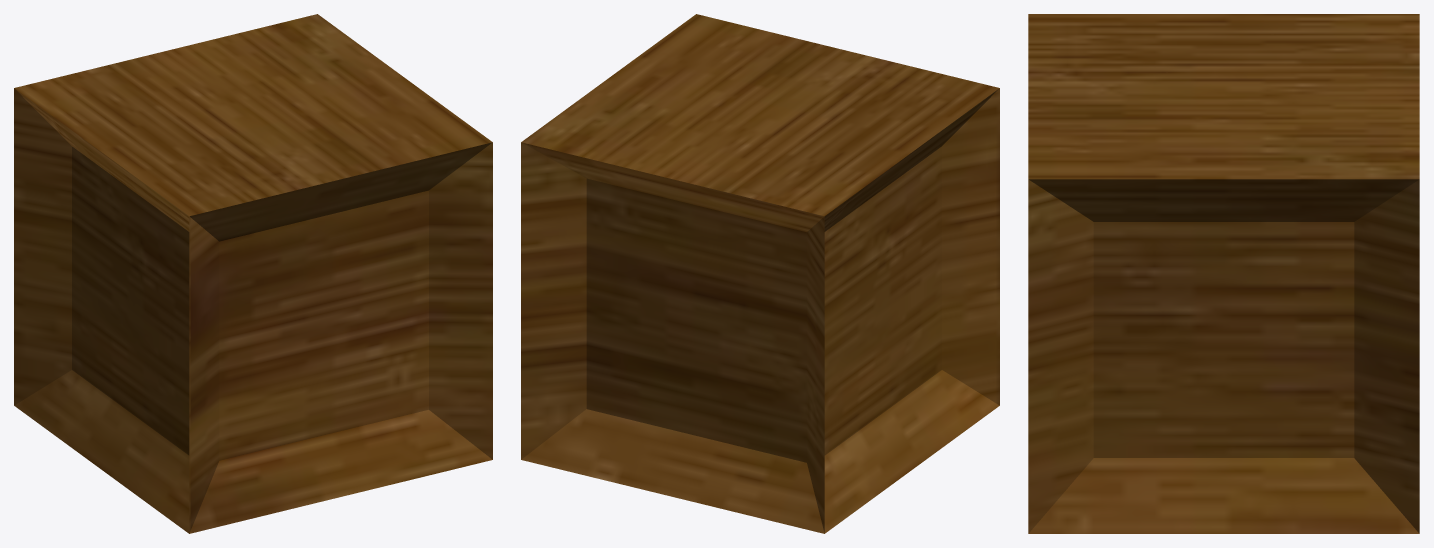
The model's file is new crate.fbx.
3 views of the same model, side by side, from view 1: azimuth 30°, elevation 25°; view 2: azimuth 150°, elevation 25°; view 3: azimuth 270°, elevation 25° (orthographic). The views are drawn at different scales.
Visible parts, largest first — view 1: Cube; view 2: Cube; view 3: Cube.
Boxes of the visible parts, x1,y1,x2,y2 form: Cube: [14, 14, 492, 533]; Cube: [521, 14, 999, 533]; Cube: [1028, 14, 1419, 533].
Bounding box in the file's own units: 222 × 222 × 222.
Materials: 1 (1 with a texture image).
